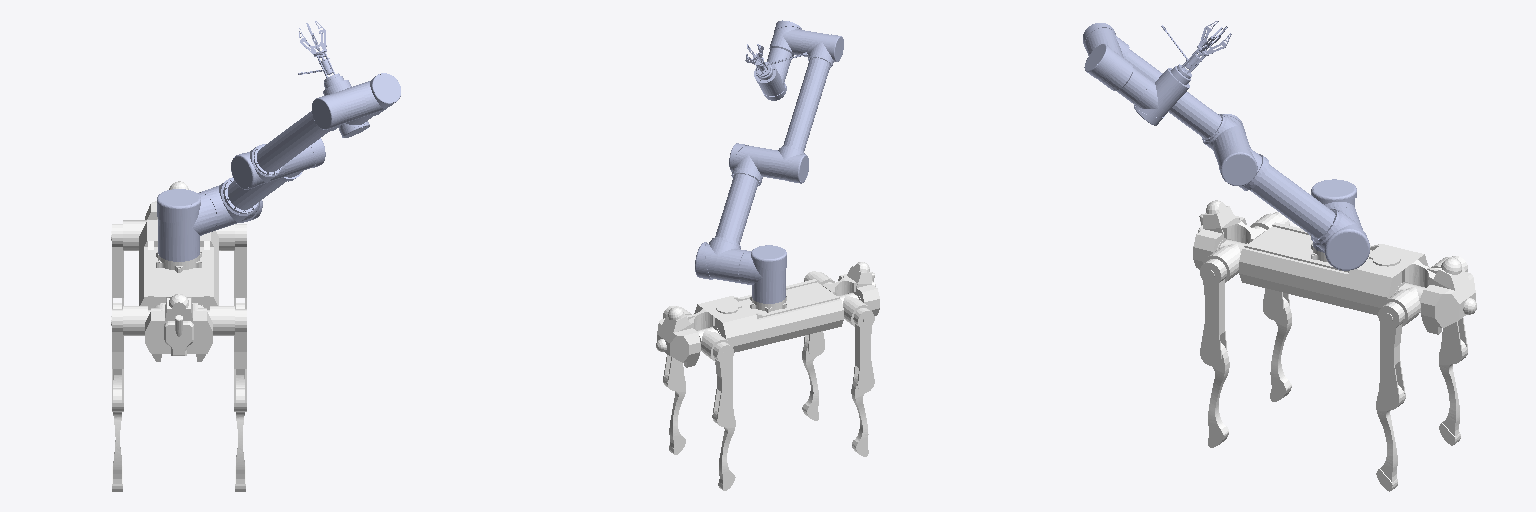
The robot description file, URDF, robot "robot_arm_urdf":
<?xml version="1.0" encoding="utf-8"?>
<!-- This URDF was automatically created by SolidWorks to URDF Exporter! Originally created by [author] ([email redacted]) 
     Commit Version: 1.5.1-0-g916b5db  Build Version: 1.5.7152.31018
     For more information, please see http://wiki.ros.org/sw_urdf_exporter -->
<robot
  name="robot_arm_urdf">

  <link name="world"/>

  <joint name="base_joint" type="fixed">
    <parent link="world"/>
    <child link="base_link"/>
    <origin rpy="0 0 0" xyz="0.0 0.0 0.645"/>
  </joint>
  
  <link
    name="base_link">
    <inertial>
      <origin
        xyz="0.00463549050506396 0.00802894976303107 -0.0799989367825155"
        rpy="0 0 0" />
      <mass
        value="28.6396598553797" />
      <inertia
        ixx="1.02069631007624"
        ixy="-0.492380659270409"
        ixz="-0.00403449266966304"
        iyy="0.452146905353567"
        iyz="-0.00698808629788684"
        izz="1.31772643210549" />
    </inertial>
    <visual>
      <origin
        xyz="0 0 0"
        rpy="0 0 0" />
      <geometry>
        <mesh
          filename="package://dog_base_urdf/meshes/base_link.STL" />
      </geometry>
      <material
        name="">
        <color
          rgba="1 1 1 1" />
      </material>
    </visual>
    <collision>
      <origin
        xyz="0 0 0"
        rpy="0 0 0" />
      <geometry>
        <mesh
          filename="package://dog_base_urdf/meshes/base_link.STL" />
      </geometry>
    </collision>
  </link>

  <link
    name="Link 1">
    <inertial>
      <origin
        xyz="3.33520935188146E-07 -0.0968009304866043 0.0135223150198269"
        rpy="0 0 0" />
      <mass
        value="1.40763351783196" />
      <inertia
        ixx="0.00392104741727282"
        ixy="1.03862730576969E-09"
        ixz="1.08880850533538E-08"
        iyy="0.00434025802310385"
        iyz="0.000711708546028714"
        izz="0.0035132992023998" />
    </inertial>
    <visual>
      <origin
        xyz="0 0 0"
        rpy="0 0 0" />
      <geometry>
        <mesh
          filename="package://dog_base_urdf/meshes/Link 1.STL" />
      </geometry>
      <material
        name="">
        <color
          rgba="0.792156862745098 0.819607843137255 0.933333333333333 1" />
      </material>
    </visual>
    <collision>
      <origin
        xyz="0 0 0"
        rpy="0 0 0" />
      <geometry>
        <mesh
          filename="package://dog_base_urdf/meshes/Link 1.STL" />
      </geometry>
    </collision>
  </link>
  <joint
    name="joint_1"
    type="revolute">
    <origin
      xyz="0 0 0.005"
      rpy="-1.5708 0 -1.4211" />
    <parent
      link="base_link" />
    <child
      link="Link 1" />
    <axis
      xyz="0 -1 0" />
    <limit
      lower="-3.142"
      upper="3.142"
      effort="300"
      velocity="6" />
  </joint>
  <link
    name="Link 2">
    <inertial>
      <origin
        xyz="0.174797274389215 -5.10638520982848E-05 -0.18667333888139"
        rpy="0 0 0" />
      <mass
        value="3.3150565529027" />
      <inertia
        ixx="0.011664983095439"
        ixy="-1.94138227168229E-07"
        ixz="0.000135097460897044"
        iyy="0.0103207289923811"
        iyz="6.54641658356166E-07"
        izz="0.00624129547998892" />
    </inertial>
    <visual>
      <origin
        xyz="0 0 0"
        rpy="0 0 0" />
      <geometry>
        <mesh
          filename="package://dog_base_urdf/meshes/Link 2.STL" />
      </geometry>
      <material
        name="">
        <color
          rgba="0.792156862745098 0.819607843137255 0.933333333333333 1" />
      </material>
    </visual>
    <collision>
      <origin
        xyz="0 0 0"
        rpy="0 0 0" />
      <geometry>
        <mesh
          filename="package://dog_base_urdf/meshes/Link 2.STL" />
      </geometry>
    </collision>
  </link>
  <joint
    name="joint_2"
    type="revolute">
    <origin
      xyz="0 -0.135 0"
      rpy="-2.71599956230961 -1.57079631189374 1.99638941807508" />
    <parent
      link="Link 1" />
    <child
      link="Link 2" />
    <axis
      xyz="-1 0 0" />
    <limit
      lower="-0.771"
      upper="2.371"
      effort="300"
      velocity="6" />
  </joint>
  <link
    name="Link 3">
    <inertial>
      <origin
        xyz="1.09860416124541E-05 -0.0656680321597432 0.332352175325836"
        rpy="0 0 0" />
      <mass
        value="1.58685560943064" />
      <inertia
        ixx="0.0068191644858142"
        ixy="4.7596436871444E-08"
        ixz="4.93892713481034E-07"
        iyy="0.00725727608542517"
        iyz="-5.82444241490415E-06"
        izz="0.00243782223553962" />
    </inertial>
    <visual>
      <origin
        xyz="0 0 0"
        rpy="0 0 0" />
      <geometry>
        <mesh
          filename="package://dog_base_urdf/meshes/Link 3.STL" />
      </geometry>
      <material
        name="">
        <color
          rgba="0.792156862745098 0.819607843137255 0.933333333333333 1" />
      </material>
    </visual>
    <collision>
      <origin
        xyz="0 0 0"
        rpy="0 0 0" />
      <geometry>
        <mesh
          filename="package://dog_base_urdf/meshes/Link 3.STL" />
      </geometry>
    </collision>
  </link>
  <joint
    name="joint_3"
    type="revolute">
    <origin
      xyz="0 0 -0.444"
      rpy="3.14159265358979 0 -1.57079632679489" />
    <parent
      link="Link 2" />
    <child
      link="Link 3" />
    <axis
      xyz="0 1 0" />
    <limit
      lower="-2.356"
      upper="2.356"
      effort="300"
      velocity="6" />
  </joint>
  <link
    name="Link 4">
    <inertial>
      <origin
        xyz="-4.918788642614E-05 -0.0478569052642419 0.124969704110837"
        rpy="0 0 0" />
      <mass
        value="0.884734542053465" />
      <inertia
        ixx="0.00198465131450543"
        ixy="-2.65685877792114E-08"
        ixz="-8.78889110698532E-07"
        iyy="0.00155855642278158"
        iyz="0.000386330199695111"
        izz="0.00171304022040207" />
    </inertial>
    <visual>
      <origin
        xyz="0 0 0"
        rpy="0 0 0" />
      <geometry>
        <mesh
          filename="package://dog_base_urdf/meshes/Link 4.STL" />
      </geometry>
      <material
        name="">
        <color
          rgba="0.792156862745098 0.819607843137255 0.933333333333333 1" />
      </material>
    </visual>
    <collision>
      <origin
        xyz="0 0 0"
        rpy="0 0 0" />
      <geometry>
        <mesh
          filename="package://dog_base_urdf/meshes/Link 4.STL" />
      </geometry>
    </collision>
  </link>
  <joint
    name="joint_4"
    type="revolute">
    <origin
      xyz="0 -0.0807901393343303 0.518000000000001"
      rpy="1.5707963267949 0 0" />
    <parent
      link="Link 3" />
    <child
      link="Link 4" />
    <axis
      xyz="0 0 1" />
    <limit
      lower="-3.142"
      upper="3.142"
      effort="300"
      velocity="6" />
  </joint>
  <link
    name="Link 5">
    <inertial>
      <origin
        xyz="-2.62083069515473E-05 0.040228879396309 -0.0634725711030624"
        rpy="0 0 0" />
      <mass
        value="0.911162528218986" />
      <inertia
        ixx="0.00106086896499636"
        ixy="2.25269663932316E-08"
        ixz="-5.50415020926981E-07"
        iyy="0.00116131786684072"
        iyz="0.00015470722075745"
        izz="0.000949606910708702" />
    </inertial>
    <visual>
      <origin
        xyz="0 0 0"
        rpy="0 0 0" />
      <geometry>
        <mesh
          filename="package://dog_base_urdf/meshes/Link 5.STL" />
      </geometry>
      <material
        name="">
        <color
          rgba="0.792156862745098 0.819607843137255 0.933333333333333 1" />
      </material>
    </visual>
    <collision>
      <origin
        xyz="0 0 0"
        rpy="0 0 0" />
      <geometry>
        <mesh
          filename="package://dog_base_urdf/meshes/Link 5.STL" />
      </geometry>
    </collision>
  </link>
  <joint
    name="joint_5"
    type="revolute">
    <origin
      xyz="0 -0.12 0.13521"
      rpy="-1.5708 -1.5708 0" />
    <parent
      link="Link 4" />
    <child
      link="Link 5" />
    <axis
      xyz="0 0 1" />
    <limit
      lower="-3.142"
      upper="3.142"
      effort="300"
      velocity="6" />
  </joint>
  <link
    name="Link 6">
    <!-- this is for closed claw, the other one is for open claw -->
    
    <inertial>
      <origin
        xyz="-0.00118020585558504 -0.0159149719261033 -0.00342180205165366"
        rpy="0 0 0" />
      <mass
        value="0.0733987958077739" />
      <inertia
        ixx="1.1380006467328E-05"
        ixy="9.25558899499417E-07"
        ixz="1.10405515931789E-06"
        iyy="1.57214863593949E-05"
        iyz="-4.47111004898457E-08"
        izz="1.46442413687236E-05" />
    </inertial> 
    <!-- <inertial>
      <origin
        xyz="0.327062358137029 0.420025700116675 -0.127549548657267"
        rpy="0 0 0" />
      <mass
        value="0.0733981065412194" />
      <inertia
        ixx="1.12778782885842E-05"
        ixy="-1.67990996390312E-07"
        ixz="-1.53467681919776E-06"
        iyy="1.59105887617276E-05"
        iyz="7.09296648946757E-07"
        izz="1.45570758923969E-05" />
    </inertial> -->
    <visual>
      <origin
        xyz="0 0 0"
        rpy="0 0 0" />
      <geometry>
        <mesh
          filename="package://dog_base_urdf/meshes/Link 6.STL" />
      </geometry>
      <material
        name="">
        <color
          rgba="0.792156862745098 0.819607843137255 0.933333333333333 1" />
      </material>
    </visual>
    <collision>
      <origin
        xyz="0 0 0"
        rpy="0 0 0" />
      <geometry>
        <mesh
          filename="package://dog_base_urdf/meshes/Link 6.STL" />
      </geometry>
    </collision>
  </link>
  <joint
    name="joint_6"
    type="revolute">
    <!-- these are for closed claw, the other one is for open claw  -->
    
    <origin
      xyz="0 0.180208975073821 -0.07"
      rpy="-0.372282107337962 -0.687462882680538 -2.83257743809968" />
    <parent
      link="Link 5" />
    <child
      link="Link 6" />
    <axis
      xyz="-0.235042225926605 -0.957575831382436 -0.16674435277905" />
    
    <!-- <origin
      xyz="0 0.18021 -0.07"
      rpy="-0.37228 -0.68746 -2.8326" />
    <parent
      link="Link 5" />
    <child
      link="Link 6" />
    <axis
      xyz="-0.17584 0.85455 0.48869" /> -->
    
    <limit
      lower="-3.142"
      upper="3.142"
      effort="300"
      velocity="6" /> 
    
  </joint>

  <transmission name="link_1_trans">
    <type>transmission_interface/SimpleTransmission</type>
    <joint name="joint_1">
    <hardwareInterface>hardware_interface/PositionJointInterface</hardwareInterface>
    </joint>
    <actuator name="link_1_motor">
    <hardwareInterface>hardware_interface/PositionJointInterface</hardwareInterface>
    <mechanicalReduction>1</mechanicalReduction>
    </actuator>
  </transmission>

  <transmission name="link_2_trans">
    <type>transmission_interface/SimpleTransmission</type>
    <joint name="joint_2">
    <hardwareInterface>hardware_interface/PositionJointInterface</hardwareInterface>
    </joint>
    <actuator name="link_2_motor">
    <hardwareInterface>hardware_interface/PositionJointInterface</hardwareInterface>
    <mechanicalReduction>1</mechanicalReduction>
    </actuator>
  </transmission>

  <transmission name="link_3_trans">
    <type>transmission_interface/SimpleTransmission</type>
    <joint name="joint_3">
    <hardwareInterface>hardware_interface/PositionJointInterface</hardwareInterface>
    </joint>
    <actuator name="link_3_motor">
    <hardwareInterface>hardware_interface/PositionJointInterface</hardwareInterface>
    <mechanicalReduction>1</mechanicalReduction>
    </actuator>
  </transmission>

  <transmission name="link_4_trans">
    <type>transmission_interface/SimpleTransmission</type>
    <joint name="joint_4">
    <hardwareInterface>hardware_interface/PositionJointInterface</hardwareInterface>
    </joint>
    <actuator name="link_4_motor">
    <hardwareInterface>hardware_interface/PositionJointInterface</hardwareInterface>
    <mechanicalReduction>1</mechanicalReduction>
    </actuator>
  </transmission>

  <transmission name="link_5_trans">
    <type>transmission_interface/SimpleTransmission</type>
    <joint name="joint_5">
    <hardwareInterface>hardware_interface/PositionJointInterface</hardwareInterface>
    </joint>
    <actuator name="link_5_motor">
    <hardwareInterface>hardware_interface/PositionJointInterface</hardwareInterface>
    <mechanicalReduction>1</mechanicalReduction>
    </actuator>
  </transmission>

  <transmission name="link_6_trans">
    <type>transmission_interface/SimpleTransmission</type>
    <joint name="joint_6">
    <hardwareInterface>hardware_interface/PositionJointInterface</hardwareInterface>
    </joint>
    <actuator name="link_6_motor">
    <hardwareInterface>hardware_interface/PositionJointInterface</hardwareInterface>
    <mechanicalReduction>1</mechanicalReduction>
    </actuator>
  </transmission>

  <gazebo>
    <plugin name="control" filename="libgazebo_ros_control.so">
    <robotNamespace>/</robotNamespace>
    </plugin>
  </gazebo>

  <gazebo reference="Link 1">
	  <selfCollide>true</selfCollide>
  </gazebo>

  <gazebo reference="Link 2">
	  <selfCollide>true</selfCollide>
  </gazebo>

  <gazebo reference="Link 3">
	  <selfCollide>true</selfCollide>
  </gazebo>

  <gazebo reference="Link 4">
	  <selfCollide>true</selfCollide>
  </gazebo>

  <gazebo reference="Link 5">
	  <selfCollide>true</selfCollide>
  </gazebo>

  <gazebo reference="Link 6">
	  <selfCollide>true</selfCollide>
  </gazebo>

</robot>

--- Render facts (derived) ---
The picture shows the robot from 3 angles, left to right: view 1: azimuth 30°, elevation 25°; view 2: azimuth 150°, elevation 25°; view 3: azimuth 270°, elevation 25°; orthographic projection.
Model robot_arm_urdf with 8 links and 7 joints (6 revolute, 1 fixed), rooted at world, posed every joint at zero.
Links seen in each view (by area): view 1: base_link, Link 3, Link 1, Link 2, Link 4, Link 5, Link 6; view 2: base_link, Link 2, Link 3, Link 1, Link 4, Link 5; view 3: base_link, Link 2, Link 3, Link 4, Link 5, Link 1, Link 6.
Boxes of the visible links, left/top/right/bottom form: base_link: left=111, top=181, right=246, bottom=491; Link 3: left=231, top=87, right=366, bottom=189; Link 1: left=157, top=189, right=216, bottom=261; Link 2: left=199, top=138, right=325, bottom=231; Link 4: left=353, top=73, right=400, bottom=121; Link 5: left=323, top=76, right=369, bottom=137; Link 6: left=298, top=21, right=339, bottom=82; base_link: left=656, top=262, right=879, bottom=490; Link 2: left=695, top=143, right=774, bottom=282; Link 3: left=769, top=31, right=843, bottom=183; Link 1: left=739, top=245, right=786, bottom=303; Link 4: left=767, top=20, right=805, bottom=69; Link 5: left=754, top=62, right=787, bottom=100; base_link: left=1193, top=200, right=1476, bottom=491; Link 2: left=1214, top=131, right=1369, bottom=270; Link 3: left=1083, top=23, right=1247, bottom=150; Link 4: left=1084, top=42, right=1148, bottom=101; Link 5: left=1131, top=66, right=1190, bottom=125; Link 1: left=1311, top=179, right=1358, bottom=252; Link 6: left=1161, top=21, right=1231, bottom=78.
Bounding box of the posed robot: 0.7371 × 1.2 × 1.55 m (x, y, z).
7 mesh visuals loaded from 7 distinct referenced files (7 binary STL).